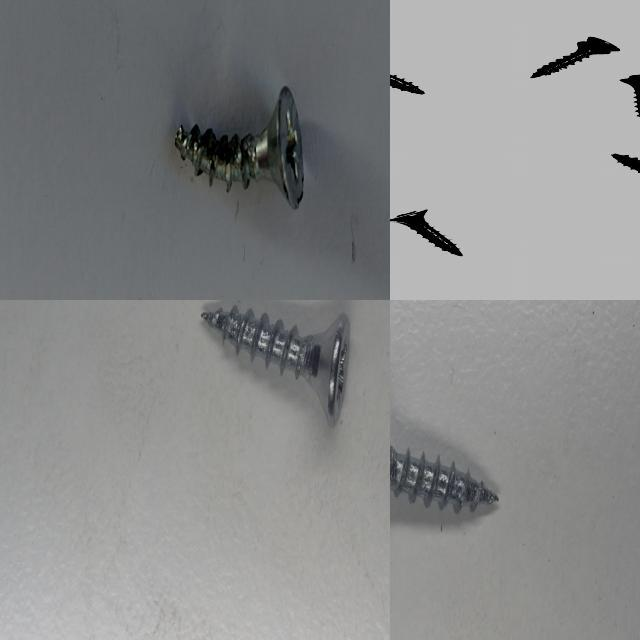Screw: (201, 305, 350, 426), (175, 86, 303, 209), (390, 402, 499, 521), (533, 37, 622, 78), (390, 210, 464, 256), (390, 73, 426, 94), (614, 154, 640, 172)
